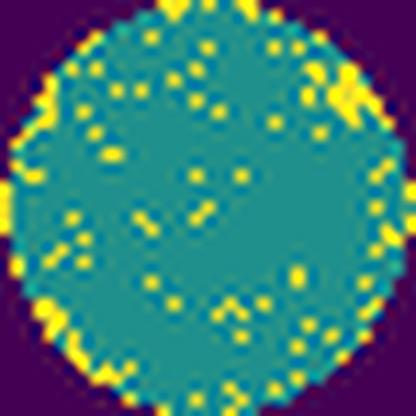Edge-Loc: (26, 292, 141, 390), (305, 46, 402, 142)
